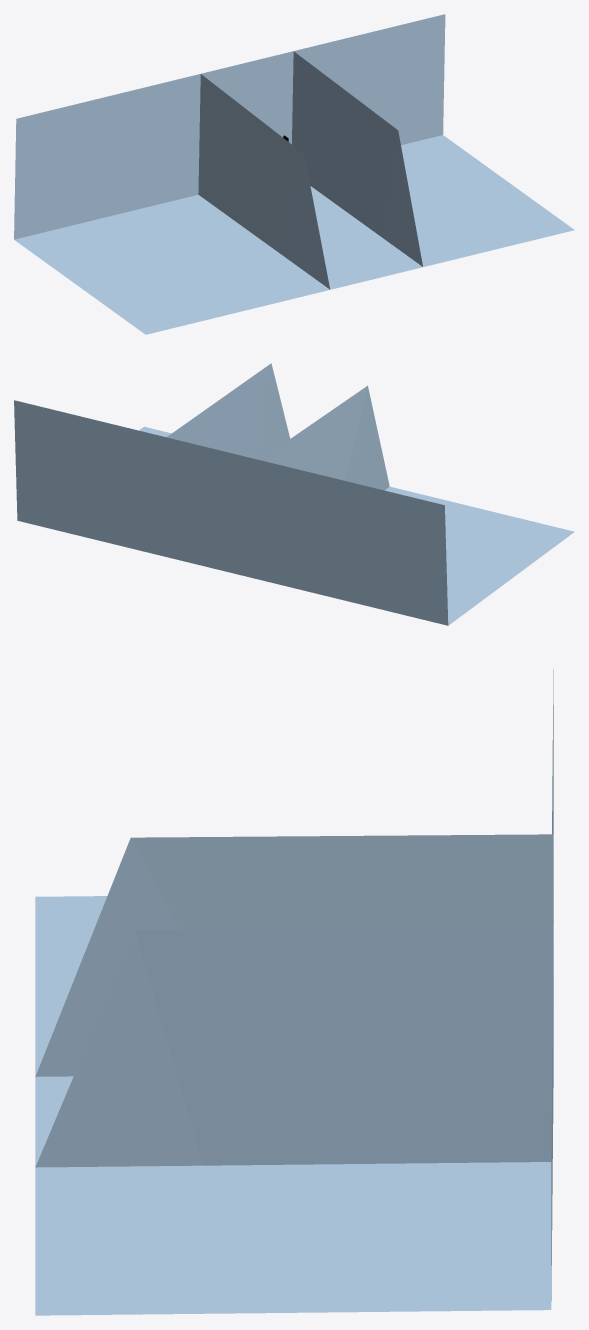
The model's file is DeskAll.glb.
The picture shows the model from 3 angles, top to bottom: view 1: azimuth 30°, elevation 25°; view 2: azimuth 150°, elevation 25°; view 3: azimuth 270°, elevation 25°; orthographic projection. The views are drawn at different scales.
Parts seen in each view (by area): view 1: floor; view 2: floor; view 3: floor.
Part boxes in pixels (box(x1,y1,x2,y2)): floor: box(14, 14, 574, 334); floor: box(14, 363, 574, 625); floor: box(35, 669, 553, 1315).
Size of the model in its own units: 50.22 by 13.47 by 26.09.
Materials: 11 (7 with a texture image).
